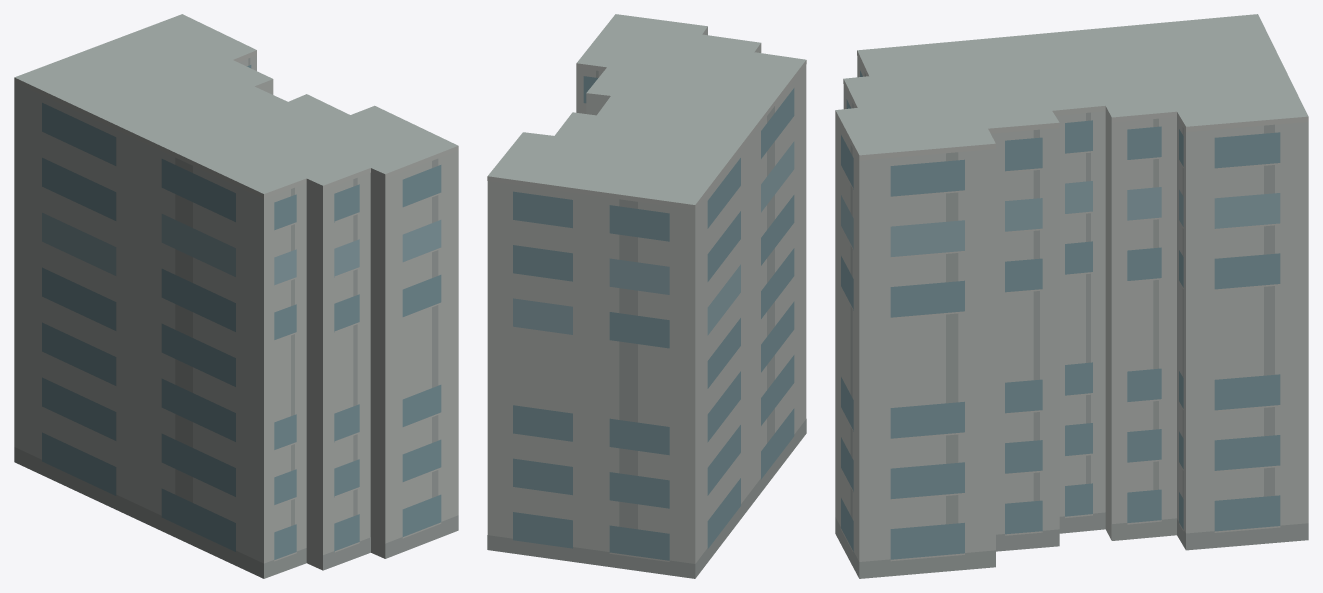
File: survey-upis-33047125.glb
The picture shows the model from 3 angles, left to right: view 1: azimuth 30°, elevation 25°; view 2: azimuth 150°, elevation 25°; view 3: azimuth 270°, elevation 25°; orthographic projection. The views are drawn at different scales.
Parts seen in each view (by area): view 1: survey-upis-33047125.tmp; view 2: survey-upis-33047125.tmp; view 3: survey-upis-33047125.tmp.
Part boxes in pixels (<box>): survey-upis-33047125.tmp: <box>14,14,458,578</box>; survey-upis-33047125.tmp: <box>487,14,806,578</box>; survey-upis-33047125.tmp: <box>835,14,1308,578</box>.
Bounding box in the file's own units: 13.89 × 19.4 × 19.65.
